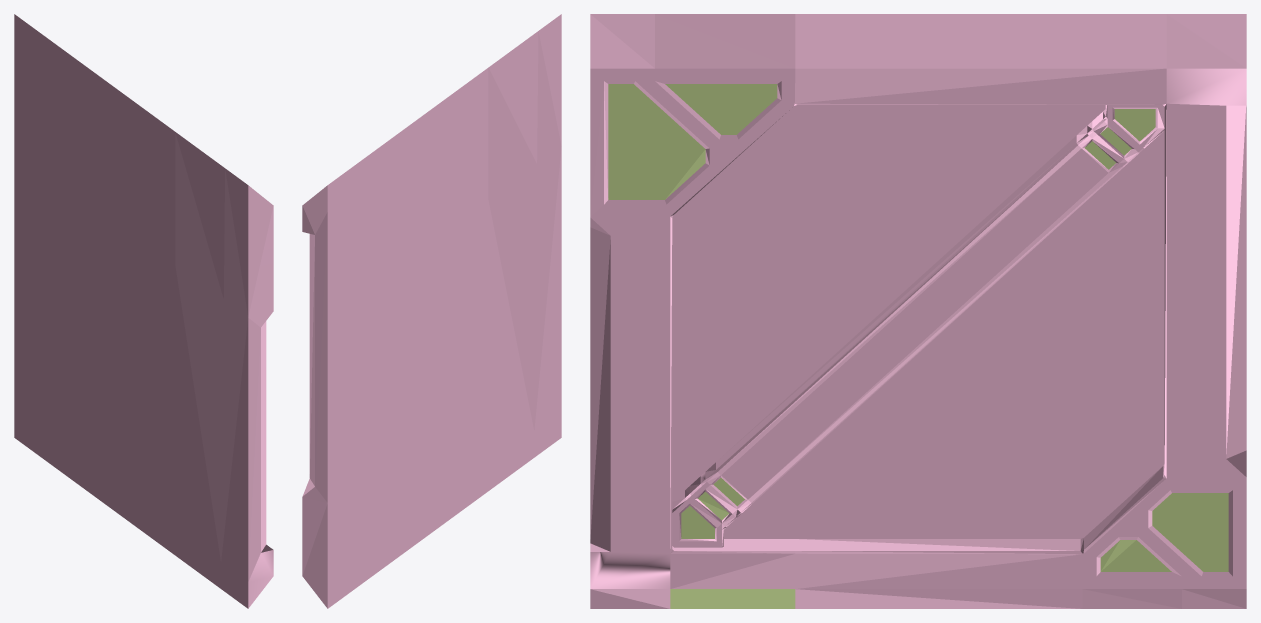
The model's file is uee_stanton_kit_ext_wall_0x8x8_04_reg.glb.
3 views of the same model, side by side, from view 1: azimuth 30°, elevation 25°; view 2: azimuth 150°, elevation 25°; view 3: azimuth 270°, elevation 25° (orthographic). The views are drawn at different scales.
Size of the model in its own units: 0.5 by 8 by 8.
